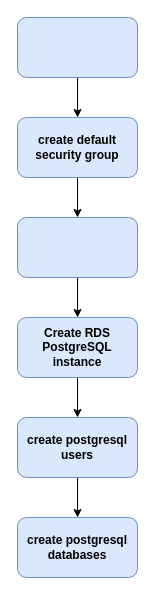
The diagram is 155 pixels wide and 595 high, and some of its shapes have lost their labels. The shapes that lost their labels are listed below. From the top down, each one's centre as x and y in pixels, then its label:
pixel 77 47: connect to aws
pixel 77 247: create subnet group
